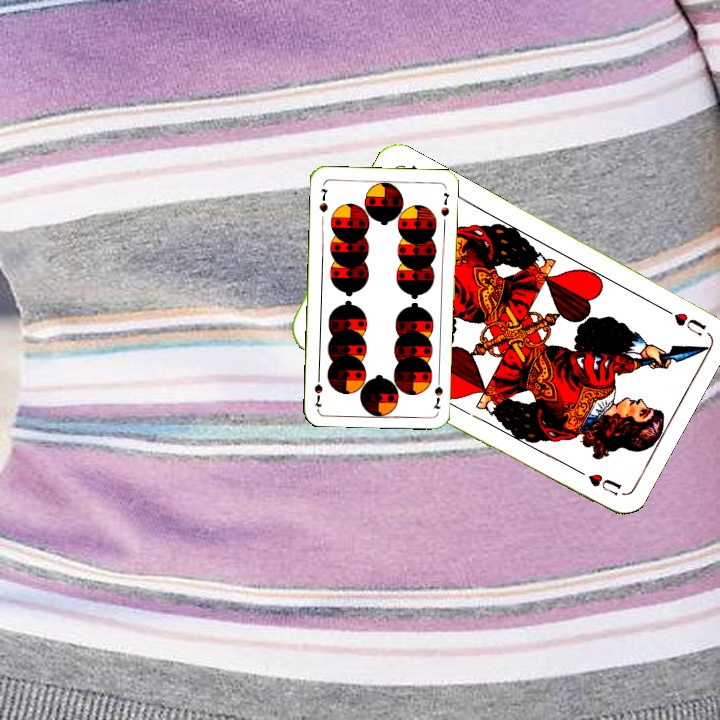HU: (654, 301, 709, 339)
S7: (429, 373, 446, 412), (316, 185, 331, 215)
